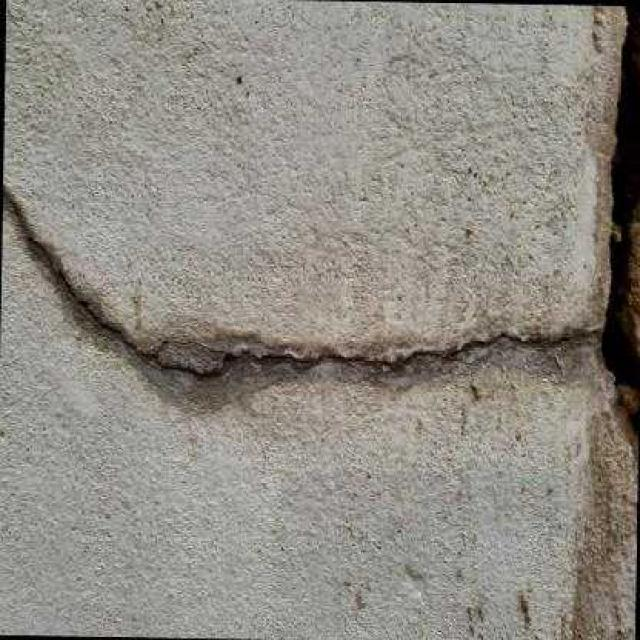D00: (2, 190, 602, 367), (600, 5, 640, 433)
